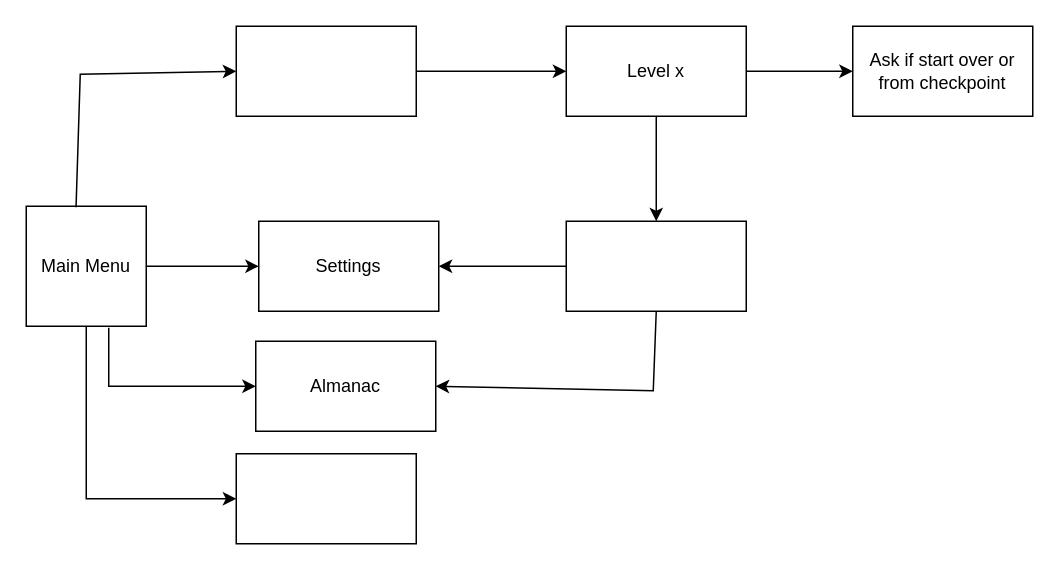
Image size: 1059x570. Some labels were removed from this diagram. Here are the shapes that lost their labels. From the top down, the centre of each, then its label:
pixel 325 70: Levels
pixel 655 265: Pause state
pixel 325 498: Credits
